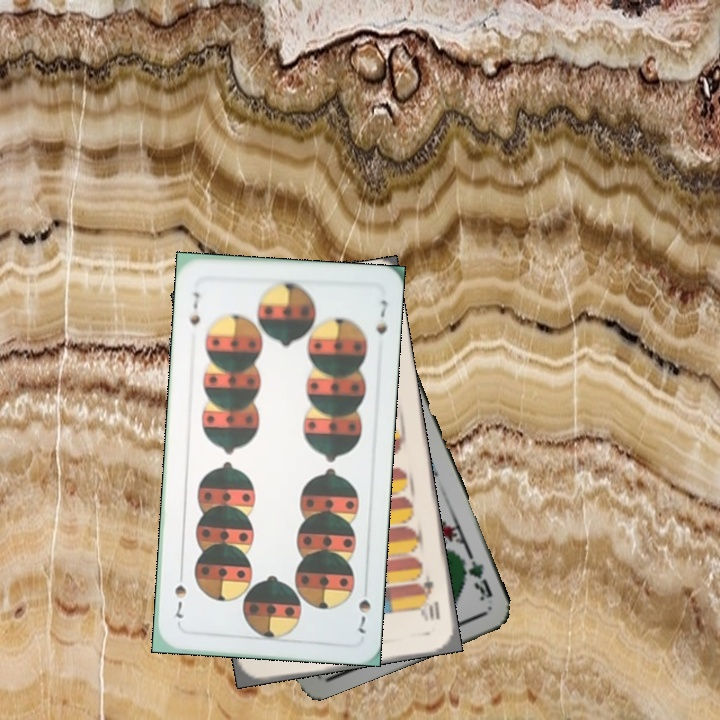E10: (415, 571, 443, 623)
GK: (456, 550, 495, 604)
S7: (353, 595, 373, 636), (185, 288, 203, 328)
